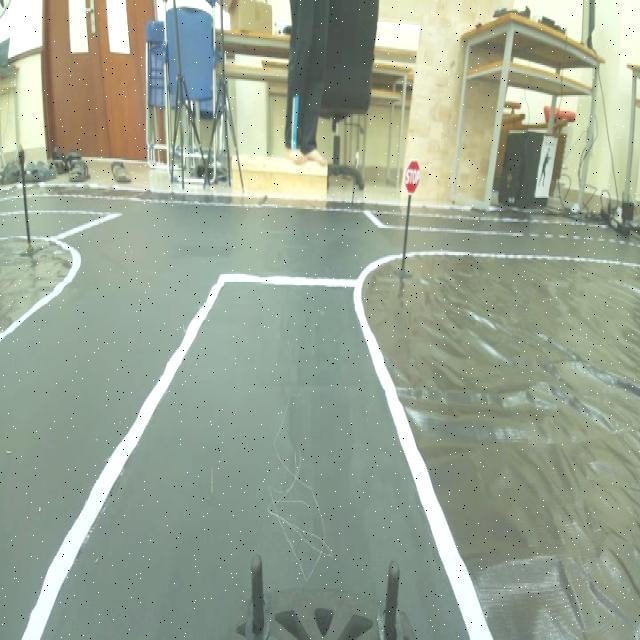stop: (400, 148, 424, 205)
